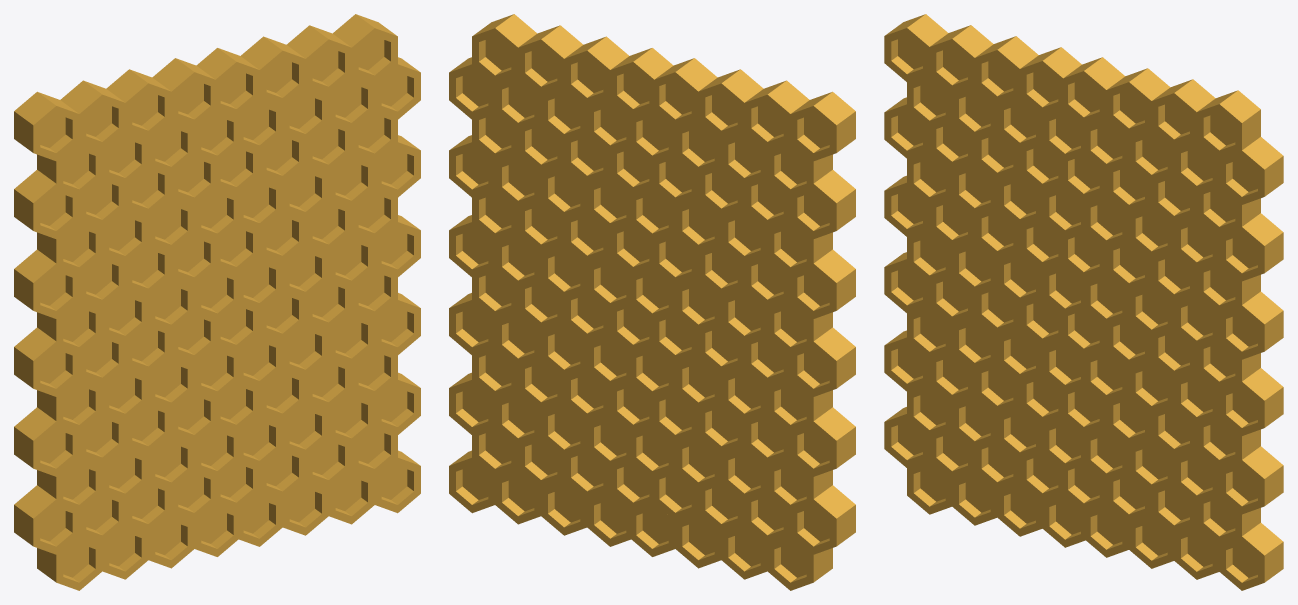
Rendered from alveare_6_version2.fbx.
3 views of the same model, side by side, from view 1: azimuth 30°, elevation 25°; view 2: azimuth 150°, elevation 25°; view 3: azimuth 330°, elevation 25° (orthographic).
Parts seen in each view (by area): view 1: Cylinder.021; view 2: Cylinder.021; view 3: Cylinder.021.
Boxes of the visible parts, left/top/right/bottom form: Cylinder.021: left=14, top=14, right=420, bottom=590; Cylinder.021: left=449, top=14, right=855, bottom=590; Cylinder.021: left=884, top=14, right=1283, bottom=590.
Bounding box in the file's own units: 2544 × 3079 × 219.
